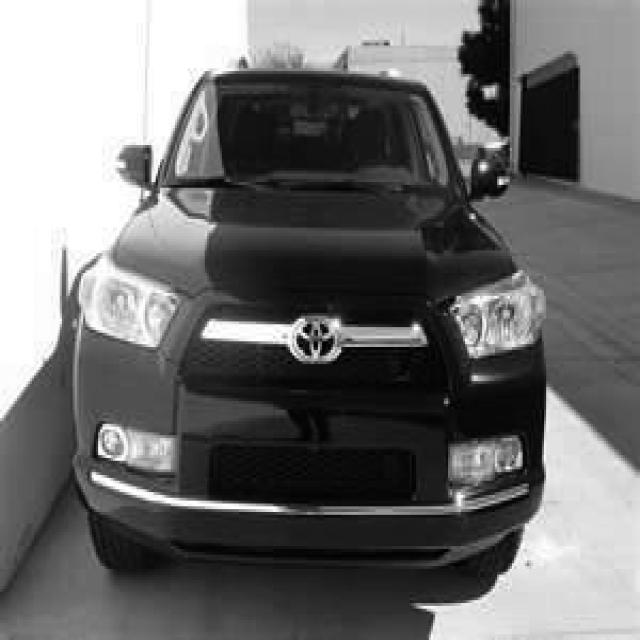car: (68, 60, 546, 577)
